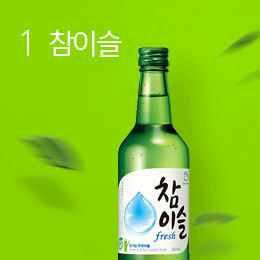soju: (116, 45, 191, 260)
